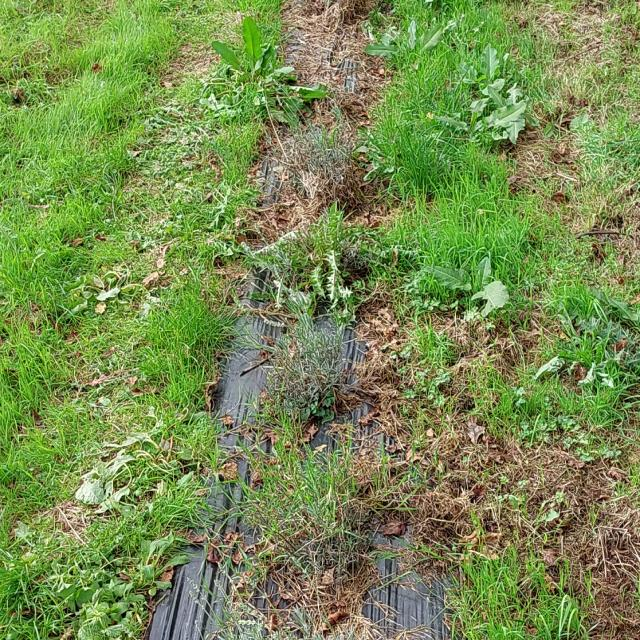organic waste: (183, 9, 313, 130), (410, 252, 548, 346), (54, 418, 173, 516), (63, 236, 164, 314), (456, 80, 550, 160), (532, 332, 620, 407), (354, 5, 439, 72), (448, 34, 517, 96)
